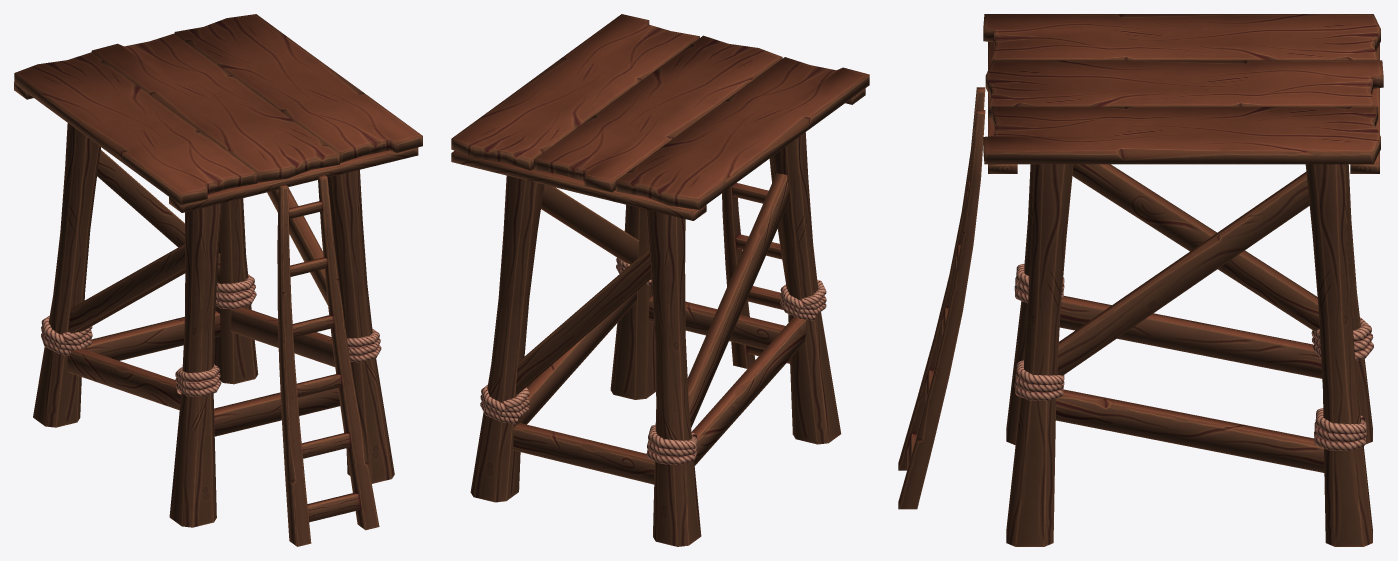
File: ArcherTower.fbx
The picture shows the model from 3 angles, left to right: view 1: azimuth 30°, elevation 25°; view 2: azimuth 150°, elevation 25°; view 3: azimuth 270°, elevation 25°; orthographic projection. The views are drawn at different scales.
Parts seen in each view (by area): view 1: E59F3W_low, KIJW5L_low, WH5R0L_low, YN5O4V_low, YVVMSL_low, QKHP8P_low, FRM26J_low, C0CD3F_low; view 2: E59F3W_low, KIJW5L_low, WH5R0L_low, YVVMSL_low, QKHP8P_low, FRM26J_low, YN5O4V_low, C0CD3F_low; view 3: KIJW5L_low, E59F3W_low, YVVMSL_low, QKHP8P_low, WH5R0L_low, YN5O4V_low, FRM26J_low, C0CD3F_low.
Boxes of the visible parts, x1,y1,x2,y2 form: E59F3W_low: [33, 123, 394, 527]; KIJW5L_low: [67, 150, 340, 436]; WH5R0L_low: [14, 52, 257, 205]; YN5O4V_low: [277, 174, 379, 546]; YVVMSL_low: [174, 14, 422, 163]; QKHP8P_low: [91, 33, 339, 182]; FRM26J_low: [41, 274, 381, 396]; C0CD3F_low: [14, 82, 418, 212]; E59F3W_low: [470, 132, 841, 546]; KIJW5L_low: [513, 173, 806, 484]; WH5R0L_low: [615, 57, 869, 209]; YVVMSL_low: [451, 14, 699, 170]; QKHP8P_low: [534, 35, 782, 192]; FRM26J_low: [480, 257, 826, 464]; YN5O4V_low: [722, 157, 789, 368]; C0CD3F_low: [451, 88, 865, 220]; KIJW5L_low: [1056, 164, 1324, 472]; E59F3W_low: [1006, 164, 1372, 546]; YVVMSL_low: [983, 106, 1380, 164]; QKHP8P_low: [985, 60, 1383, 117]; WH5R0L_low: [983, 14, 1380, 62]; YN5O4V_low: [898, 87, 985, 509]; FRM26J_low: [1014, 263, 1373, 450]; C0CD3F_low: [988, 42, 1379, 173].
Size of the model in its own units: 270 by 367 by 400.
